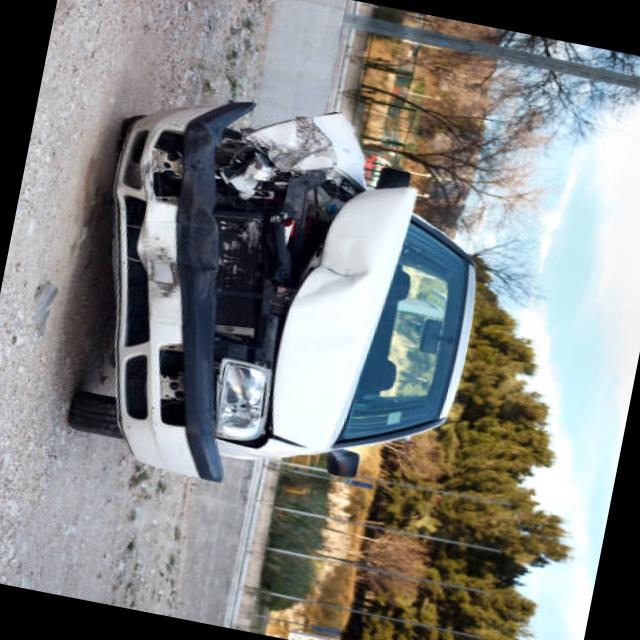Crack: (313, 239, 371, 287)
Dent: (115, 274, 221, 482), (302, 190, 401, 372), (120, 191, 180, 343)
Scratch: (252, 116, 359, 166), (135, 203, 177, 300)
Shatter: (213, 138, 337, 343), (215, 113, 366, 243), (129, 106, 213, 205)
